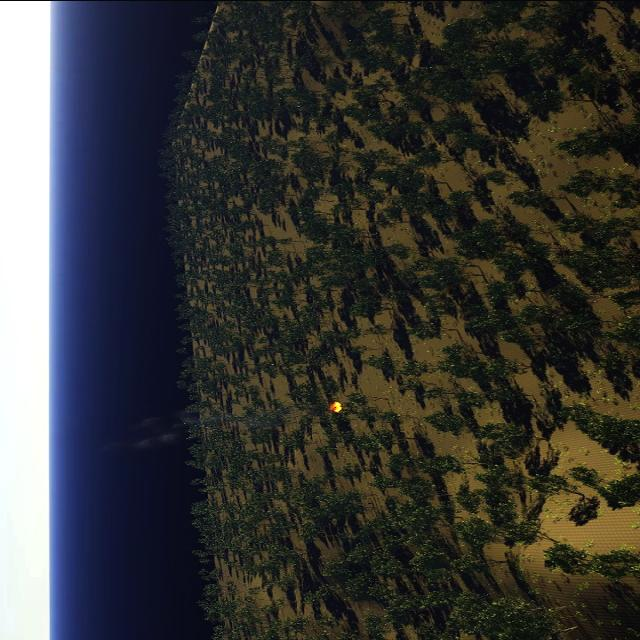fire: (332, 400, 344, 410)
smoke: (103, 407, 193, 451)
